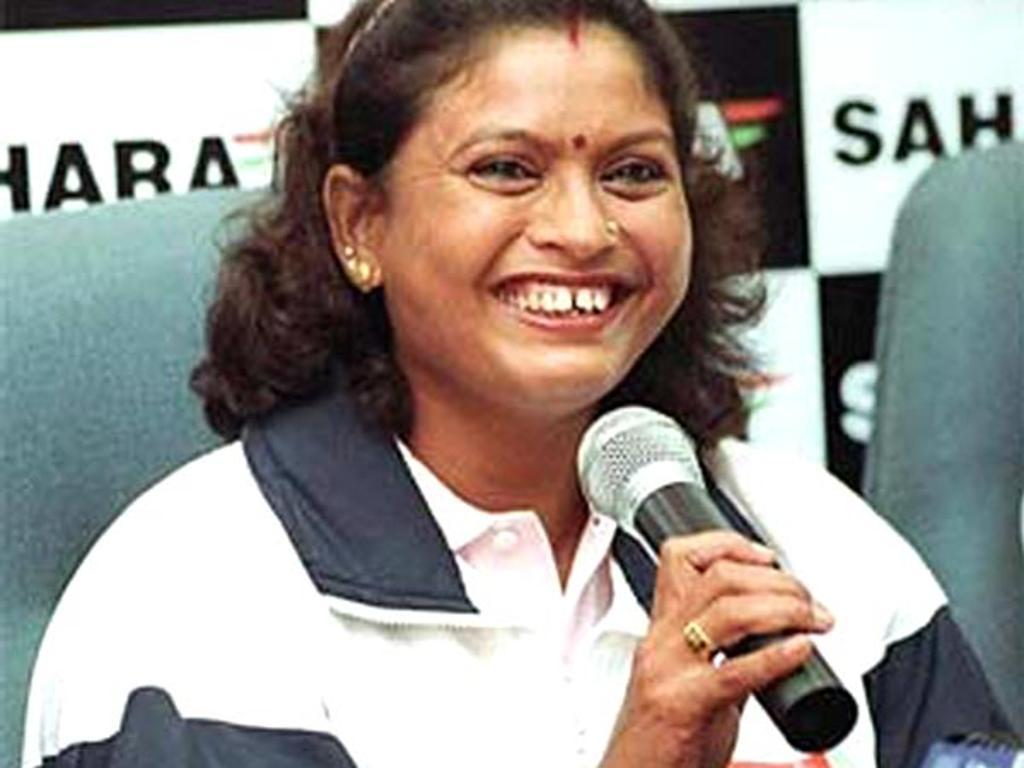face: (377, 67, 695, 405)
